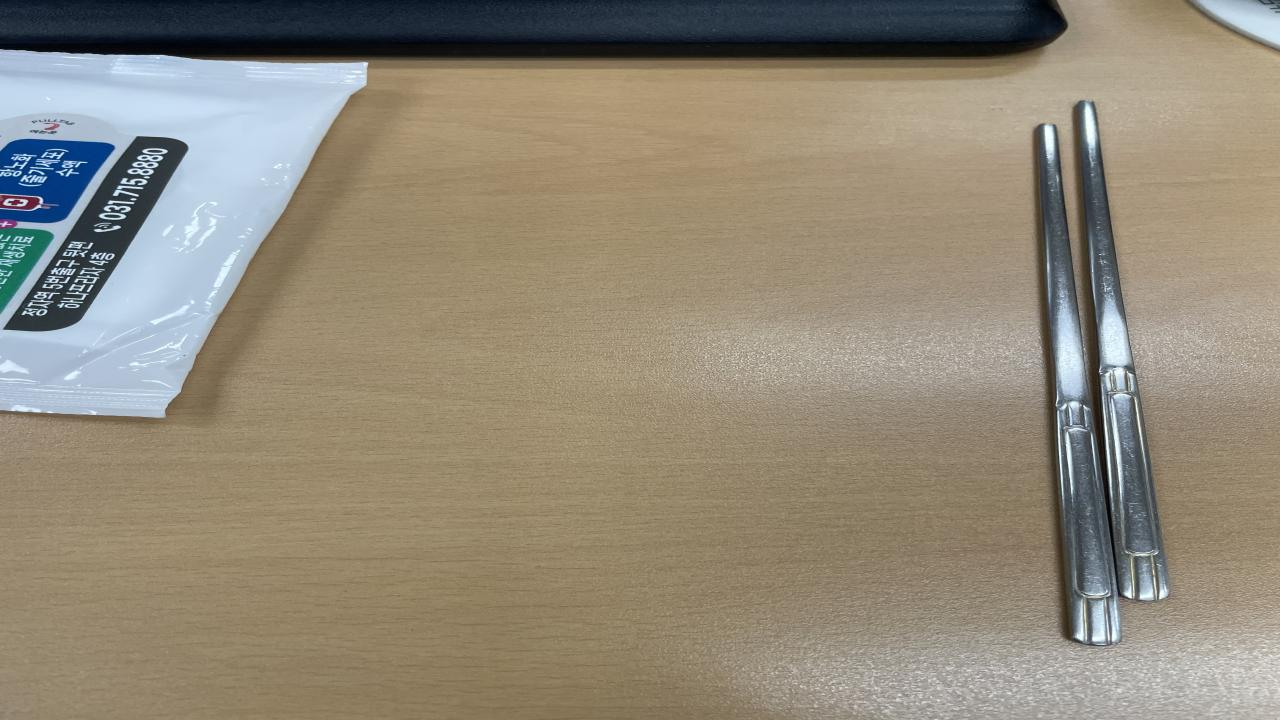chopstick: (1028, 104, 1166, 646)
